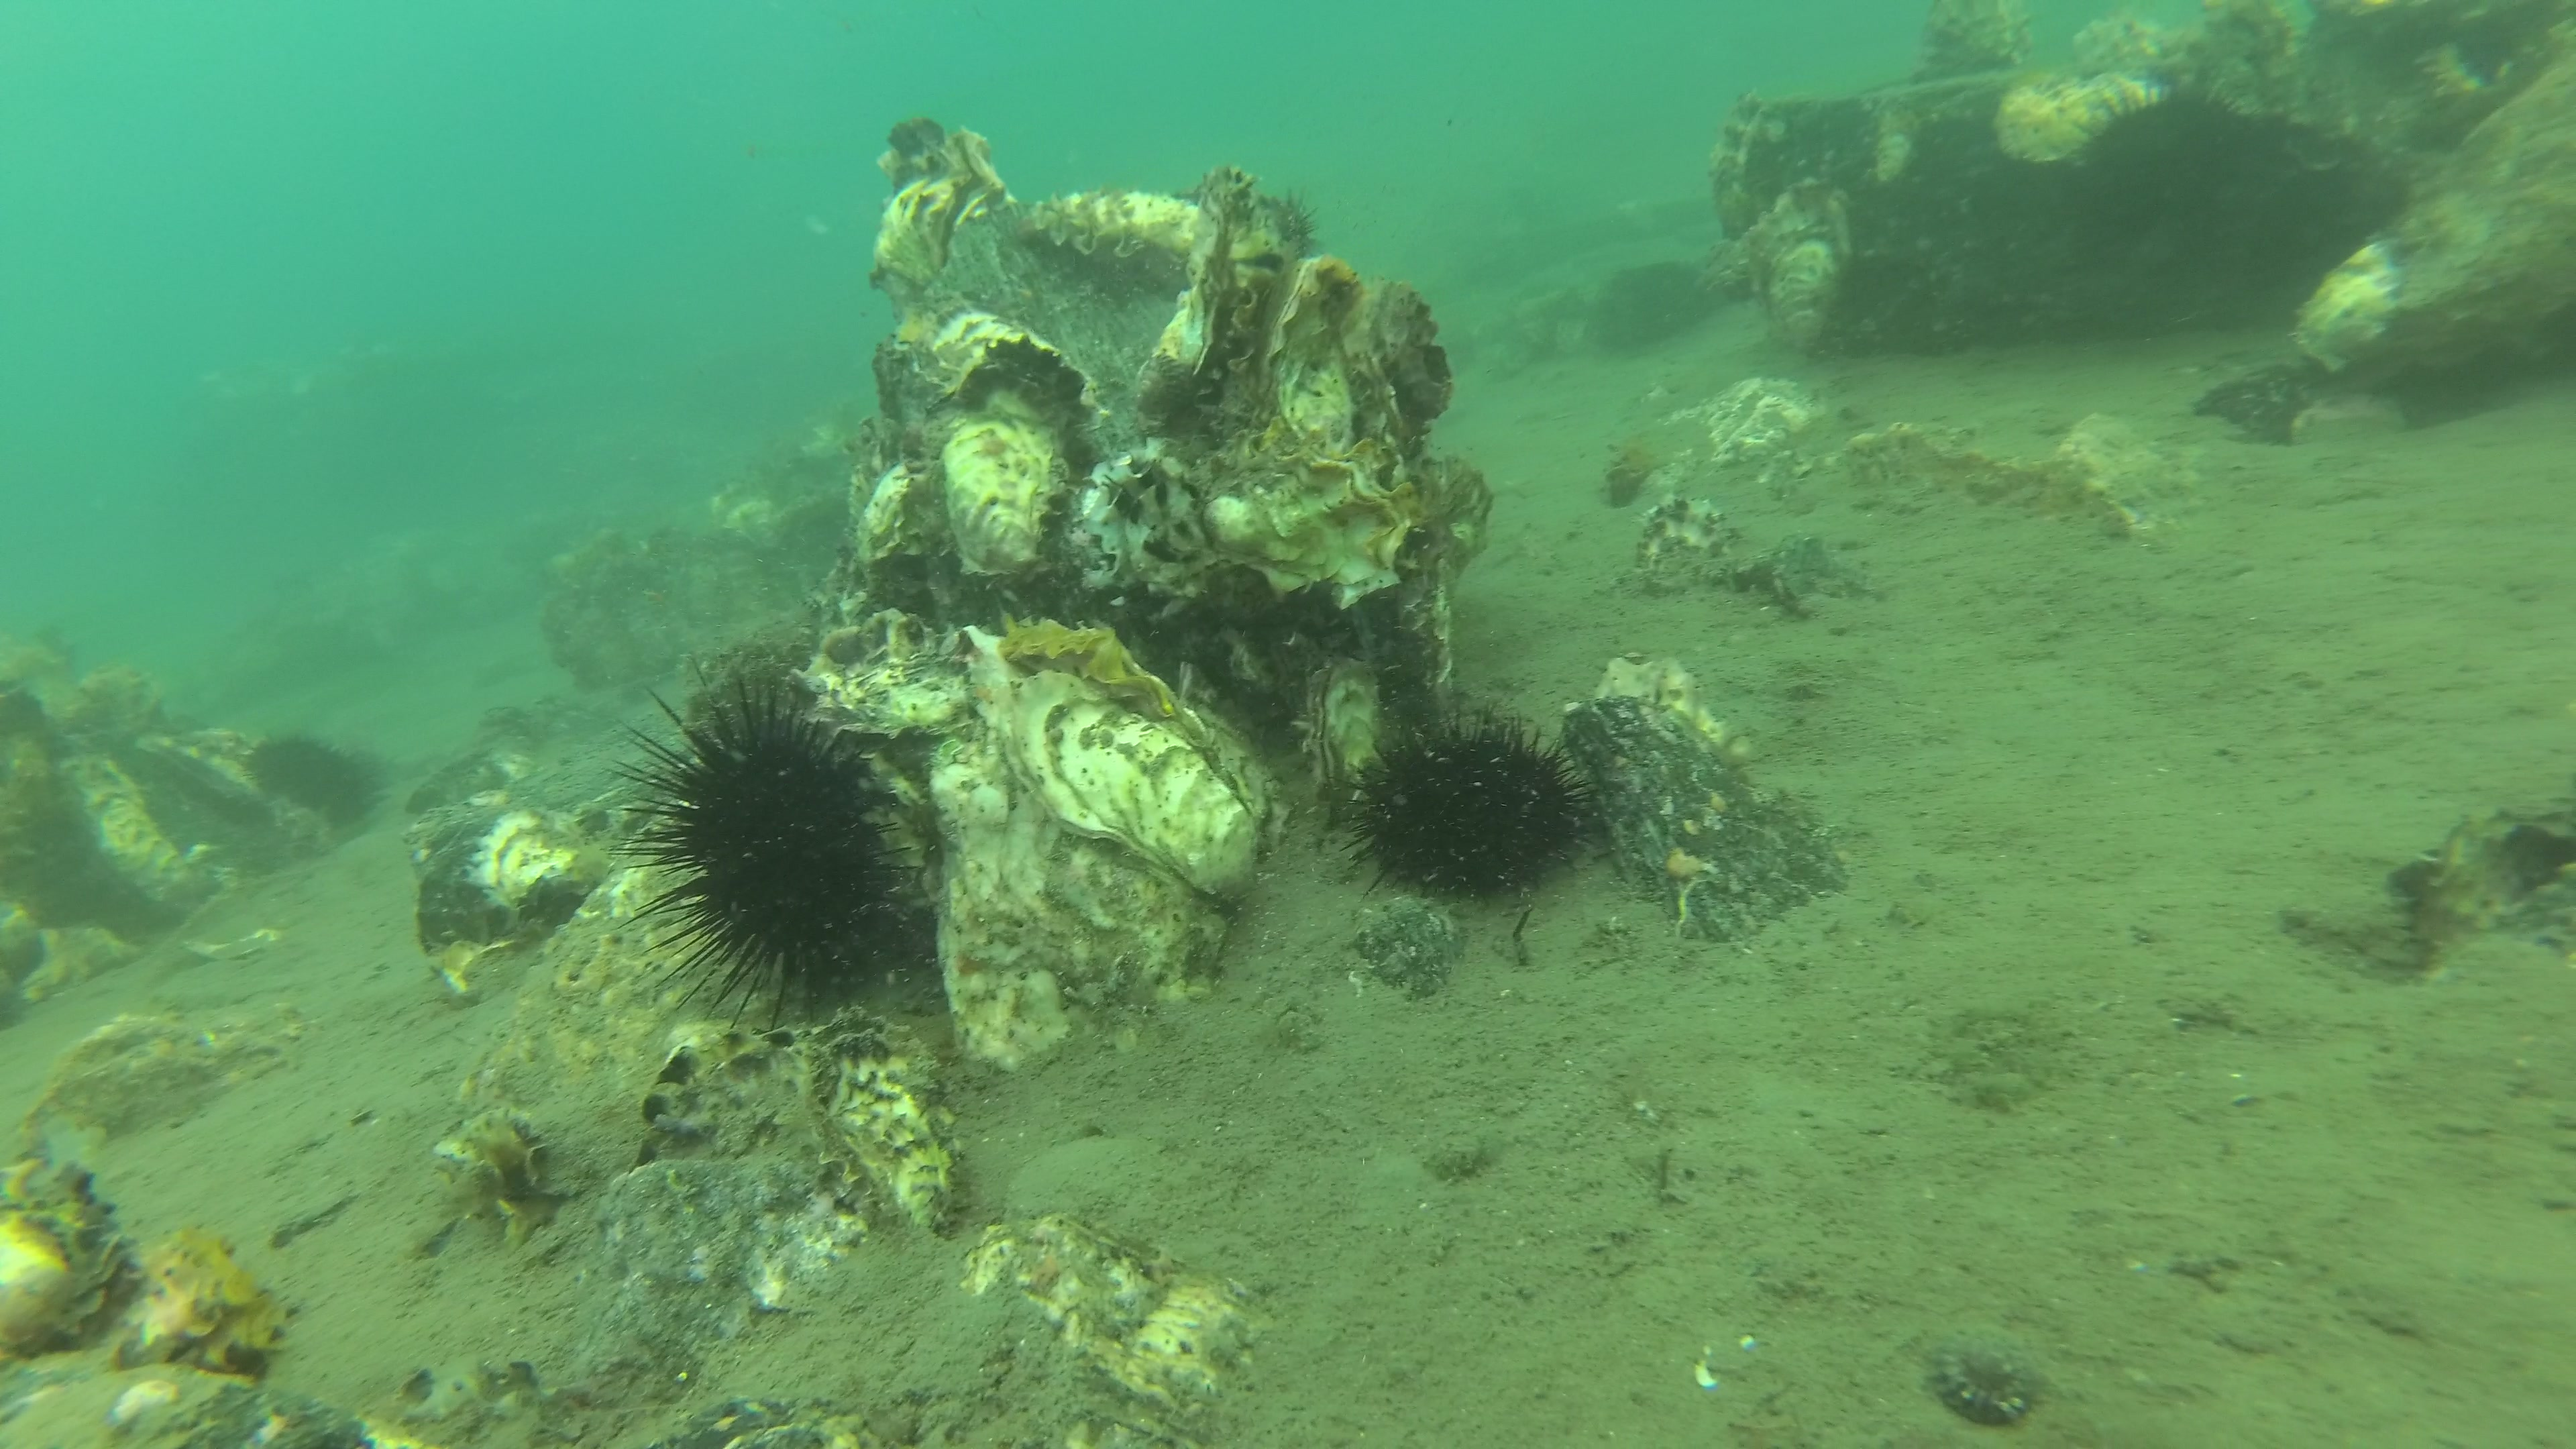echinus: (602, 651, 922, 1033), (1327, 702, 1605, 909), (2065, 64, 2275, 228), (235, 727, 391, 828)
